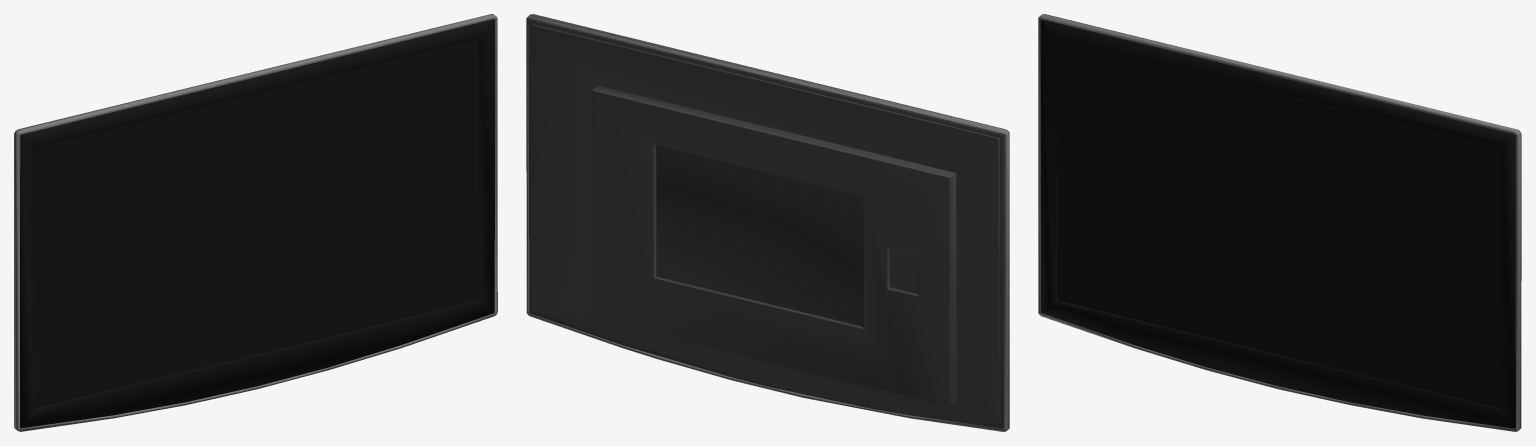
The picture shows the model from 3 angles, left to right: view 1: azimuth 30°, elevation 25°; view 2: azimuth 150°, elevation 25°; view 3: azimuth 330°, elevation 25°; orthographic projection.
Parts seen in each view (by area): view 1: Tv; view 2: Tv; view 3: Tv.
Boxes of the visible parts, left/top/right/bottom form: Tv: left=14, top=14, right=497, bottom=431; Tv: left=526, top=14, right=1009, bottom=431; Tv: left=1038, top=14, right=1521, bottom=431.
Size of the model in its own units: 99.37 by 62.33 by 3.99.
Materials: 2 (1 with a texture image).
